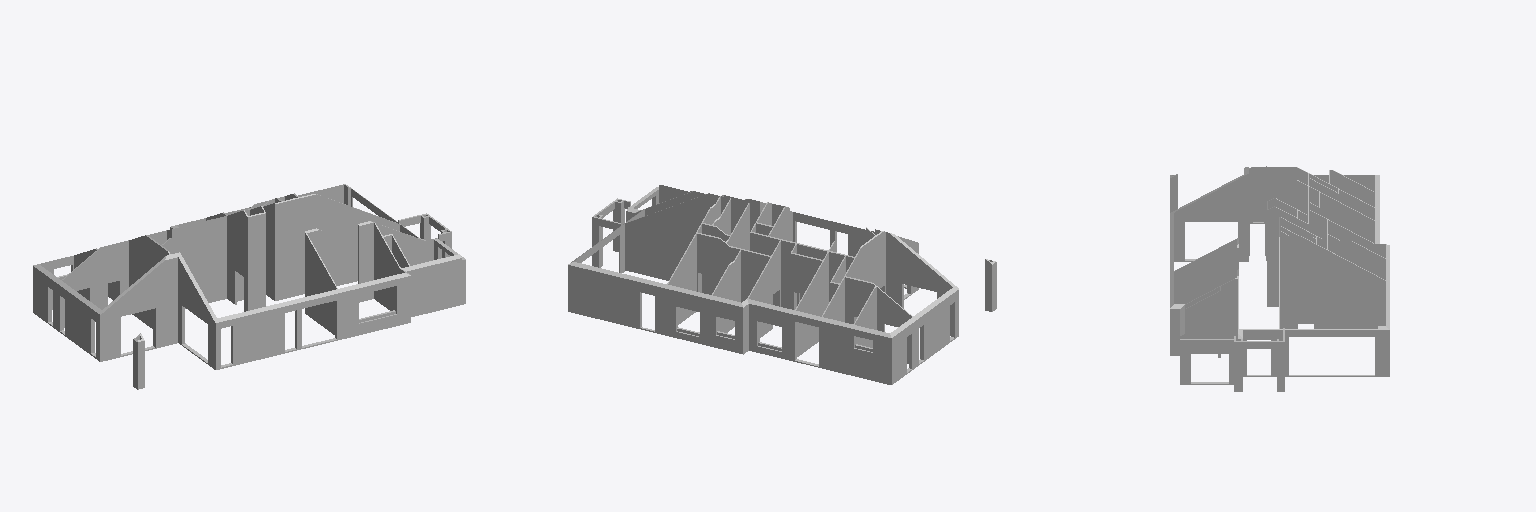
Rendered from Noosa-walls.obj.
The picture shows the model from 3 angles: view 1: azimuth 30°, elevation 25°; view 2: azimuth 150°, elevation 25°; view 3: azimuth 270°, elevation 25°; orthographic projection.
Parts seen in each view (by area): view 1: Basic_Wall_Brick___110__212980_; view 2: Basic_Wall_Brick___110__212980_; view 3: Basic_Wall_Brick___110__212980_.
Part boxes in pixels (left/top/right/bottom): Basic_Wall_Brick___110__212980_: left=33, top=184, right=465, bottom=389; Basic_Wall_Brick___110__212980_: left=568, top=185, right=996, bottom=384; Basic_Wall_Brick___110__212980_: left=1170, top=166, right=1389, bottom=391.
Bounding box in the file's own units: 44.68 × 12.59 × 24.6.